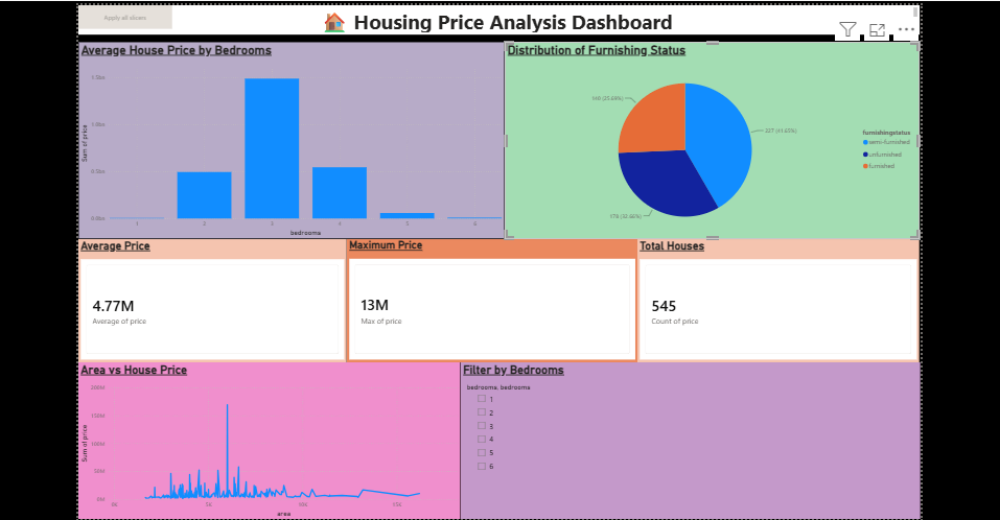

The page's visual inventory and layout, read from the dashboard file:
{"tool":"powerbi","page":{"name":"Page 1","canvas":[1800,1100],"ordinal":0},"visuals":[{"type":"textbox","box":[0,0,1800,63.3],"z":0},{"type":"pieChart","title":"Distribution of Furnishing Status","fields":{"Category":["Housing.furnishingstatus"],"Y":["CountNonNull(Housing.furnishingstatus)"]},"box":[912.1,77.6,887.9,422.4],"z":1000},{"type":"cardVisual","title":"Average Price","fields":{"Data":["Avg(Housing.price)"]},"box":[0,500,574.1,263.8],"z":2000},{"type":"cardVisual","title":"Maximum Price","fields":{"Data":["Max(Housing.price)"]},"box":[574.1,500,622.4,263.8],"z":3000},{"type":"cardVisual","title":"Total Houses","fields":{"Data":["CountNonNull(Housing.price)"]},"box":[1196.6,500,603.4,263.8],"z":4000},{"type":"lineChart","title":"Area vs House Price","fields":{"Y":["Sum(Housing.price)"],"Category":["Housing.area"]},"box":[0,763.8,817.2,336.2],"z":5000},{"type":"slicer","title":"Filter by Bedrooms","fields":{"Values":["Housing.bedrooms","Housing.bedrooms"]},"box":[817.2,763.8,982.8,336.2],"z":6000},{"type":"clusteredColumnChart","title":"Average House Price by Bedrooms","fields":{"Category":["Housing.bedrooms"],"Y":["Sum(Housing.price)"]},"box":[0,77.6,912.1,422.4],"z":7000},{"type":"actionButton","box":[0,0,200,50],"z":8000}]}

Visuals, with their boxes in screenshot pixels (x1, y1, x2, y2):
textbox: l=76, t=3, r=916, b=32
"Distribution of Furnishing Status" pieChart: l=501, t=39, r=916, b=236
"Average Price" cardVisual: l=76, t=236, r=344, b=359
"Maximum Price" cardVisual: l=344, t=236, r=634, b=359
"Total Houses" cardVisual: l=634, t=236, r=916, b=359
"Area vs House Price" lineChart: l=76, t=359, r=457, b=516
"Filter by Bedrooms" slicer: l=457, t=359, r=916, b=516
"Average House Price by Bedrooms" clusteredColumnChart: l=76, t=39, r=501, b=236
actionButton: l=76, t=3, r=169, b=26
